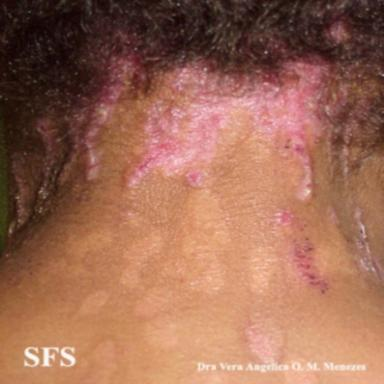Epidermolysis-Bullosa-Pruriginosa: (126, 61, 326, 198), (8, 54, 148, 237), (270, 210, 329, 294), (324, 21, 351, 44)
